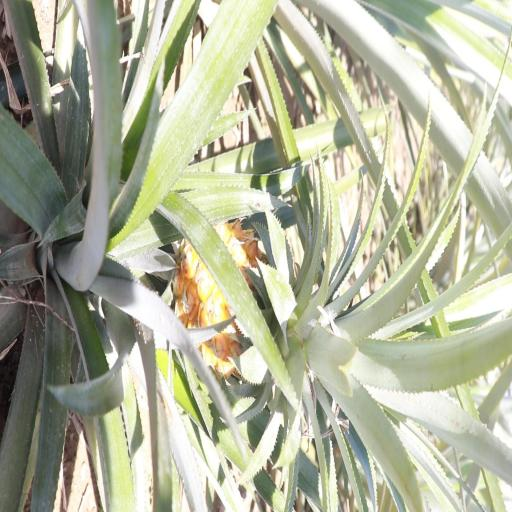Pineapple - v8 v1: (176, 215, 401, 398)
